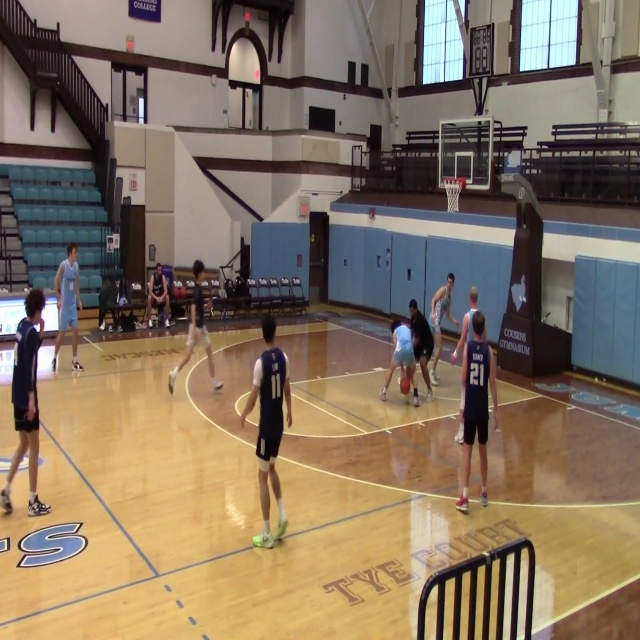Basketball: (171, 280, 187, 300), (399, 376, 411, 394)
